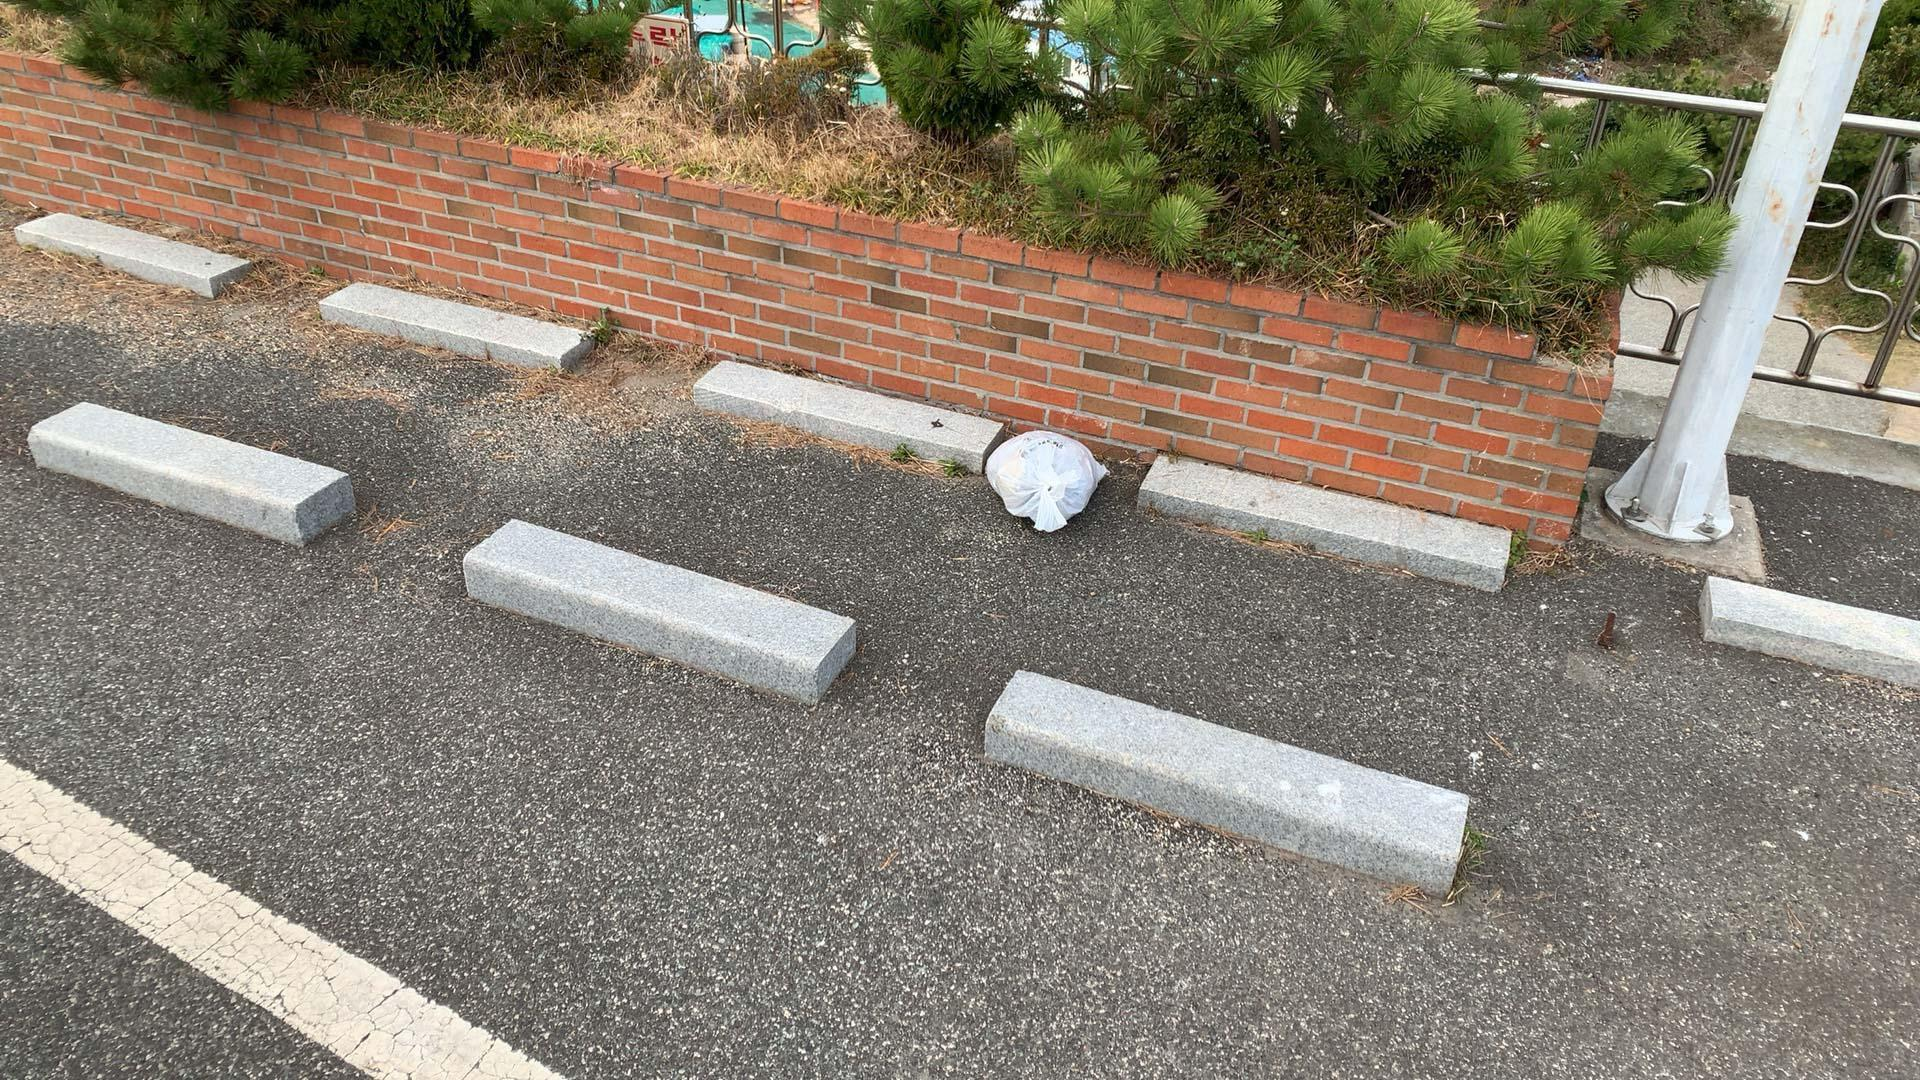white_bag: (976, 421, 1114, 539)
